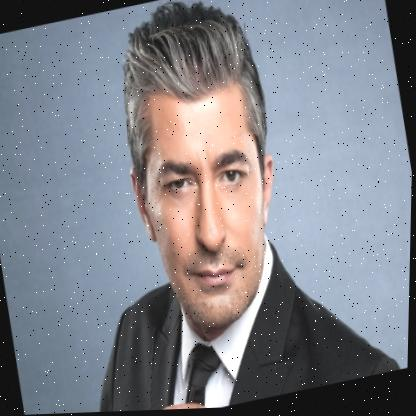person: (98, 0, 308, 346)
